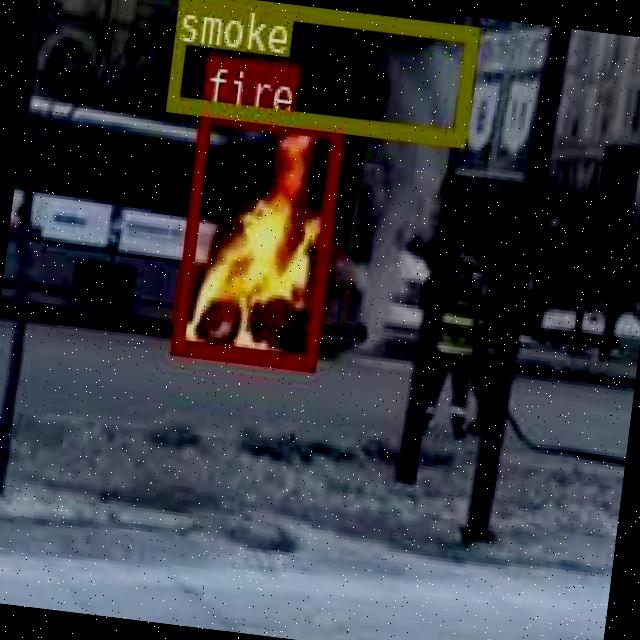fire: (170, 105, 342, 368)
smoke: (165, 0, 476, 143)
